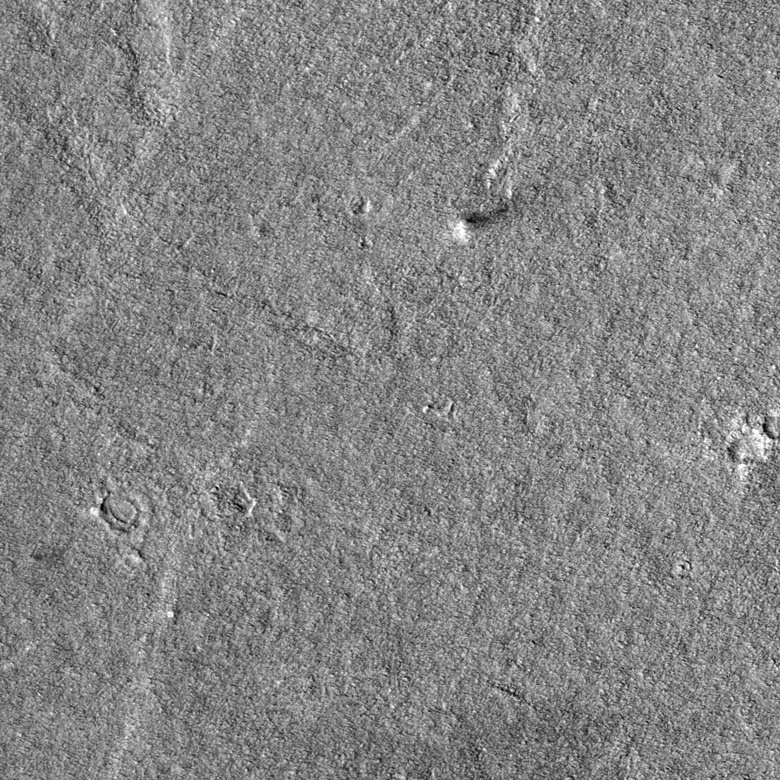dust_devil: (446, 196, 523, 247)
